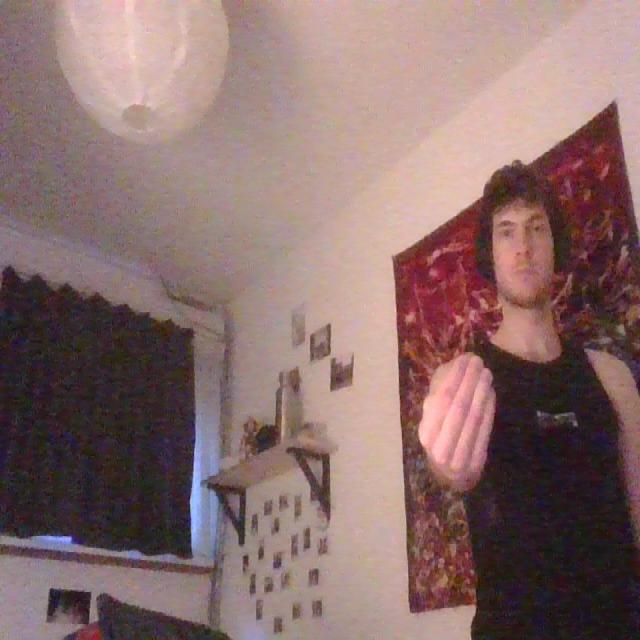forward: (416, 346, 502, 489)
